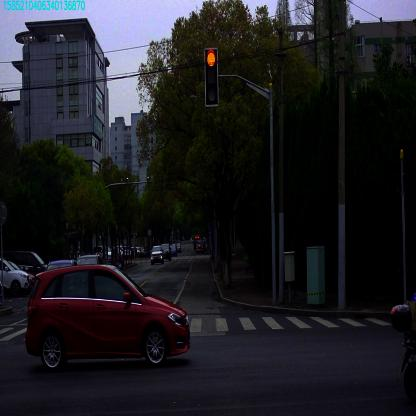traffic-light: (205, 49, 218, 105)
